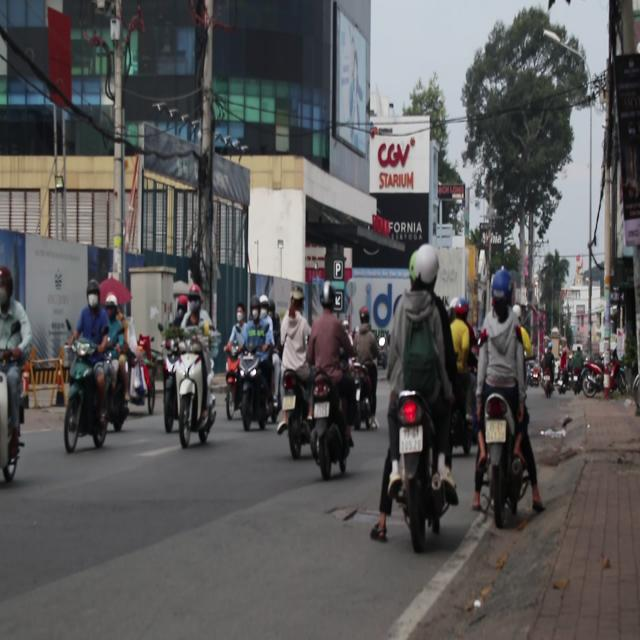motorbike: (372, 392, 452, 551), (478, 378, 538, 522), (161, 327, 217, 447), (62, 336, 116, 453), (0, 343, 34, 492), (304, 373, 350, 479), (232, 347, 275, 428), (280, 372, 314, 459), (222, 337, 246, 425), (129, 336, 156, 414), (598, 352, 628, 400), (575, 363, 604, 398)
